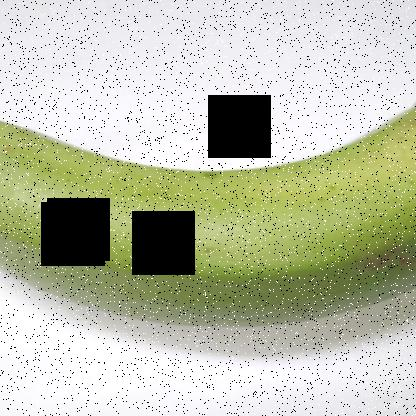freshunripe: (0, 70, 415, 351)
